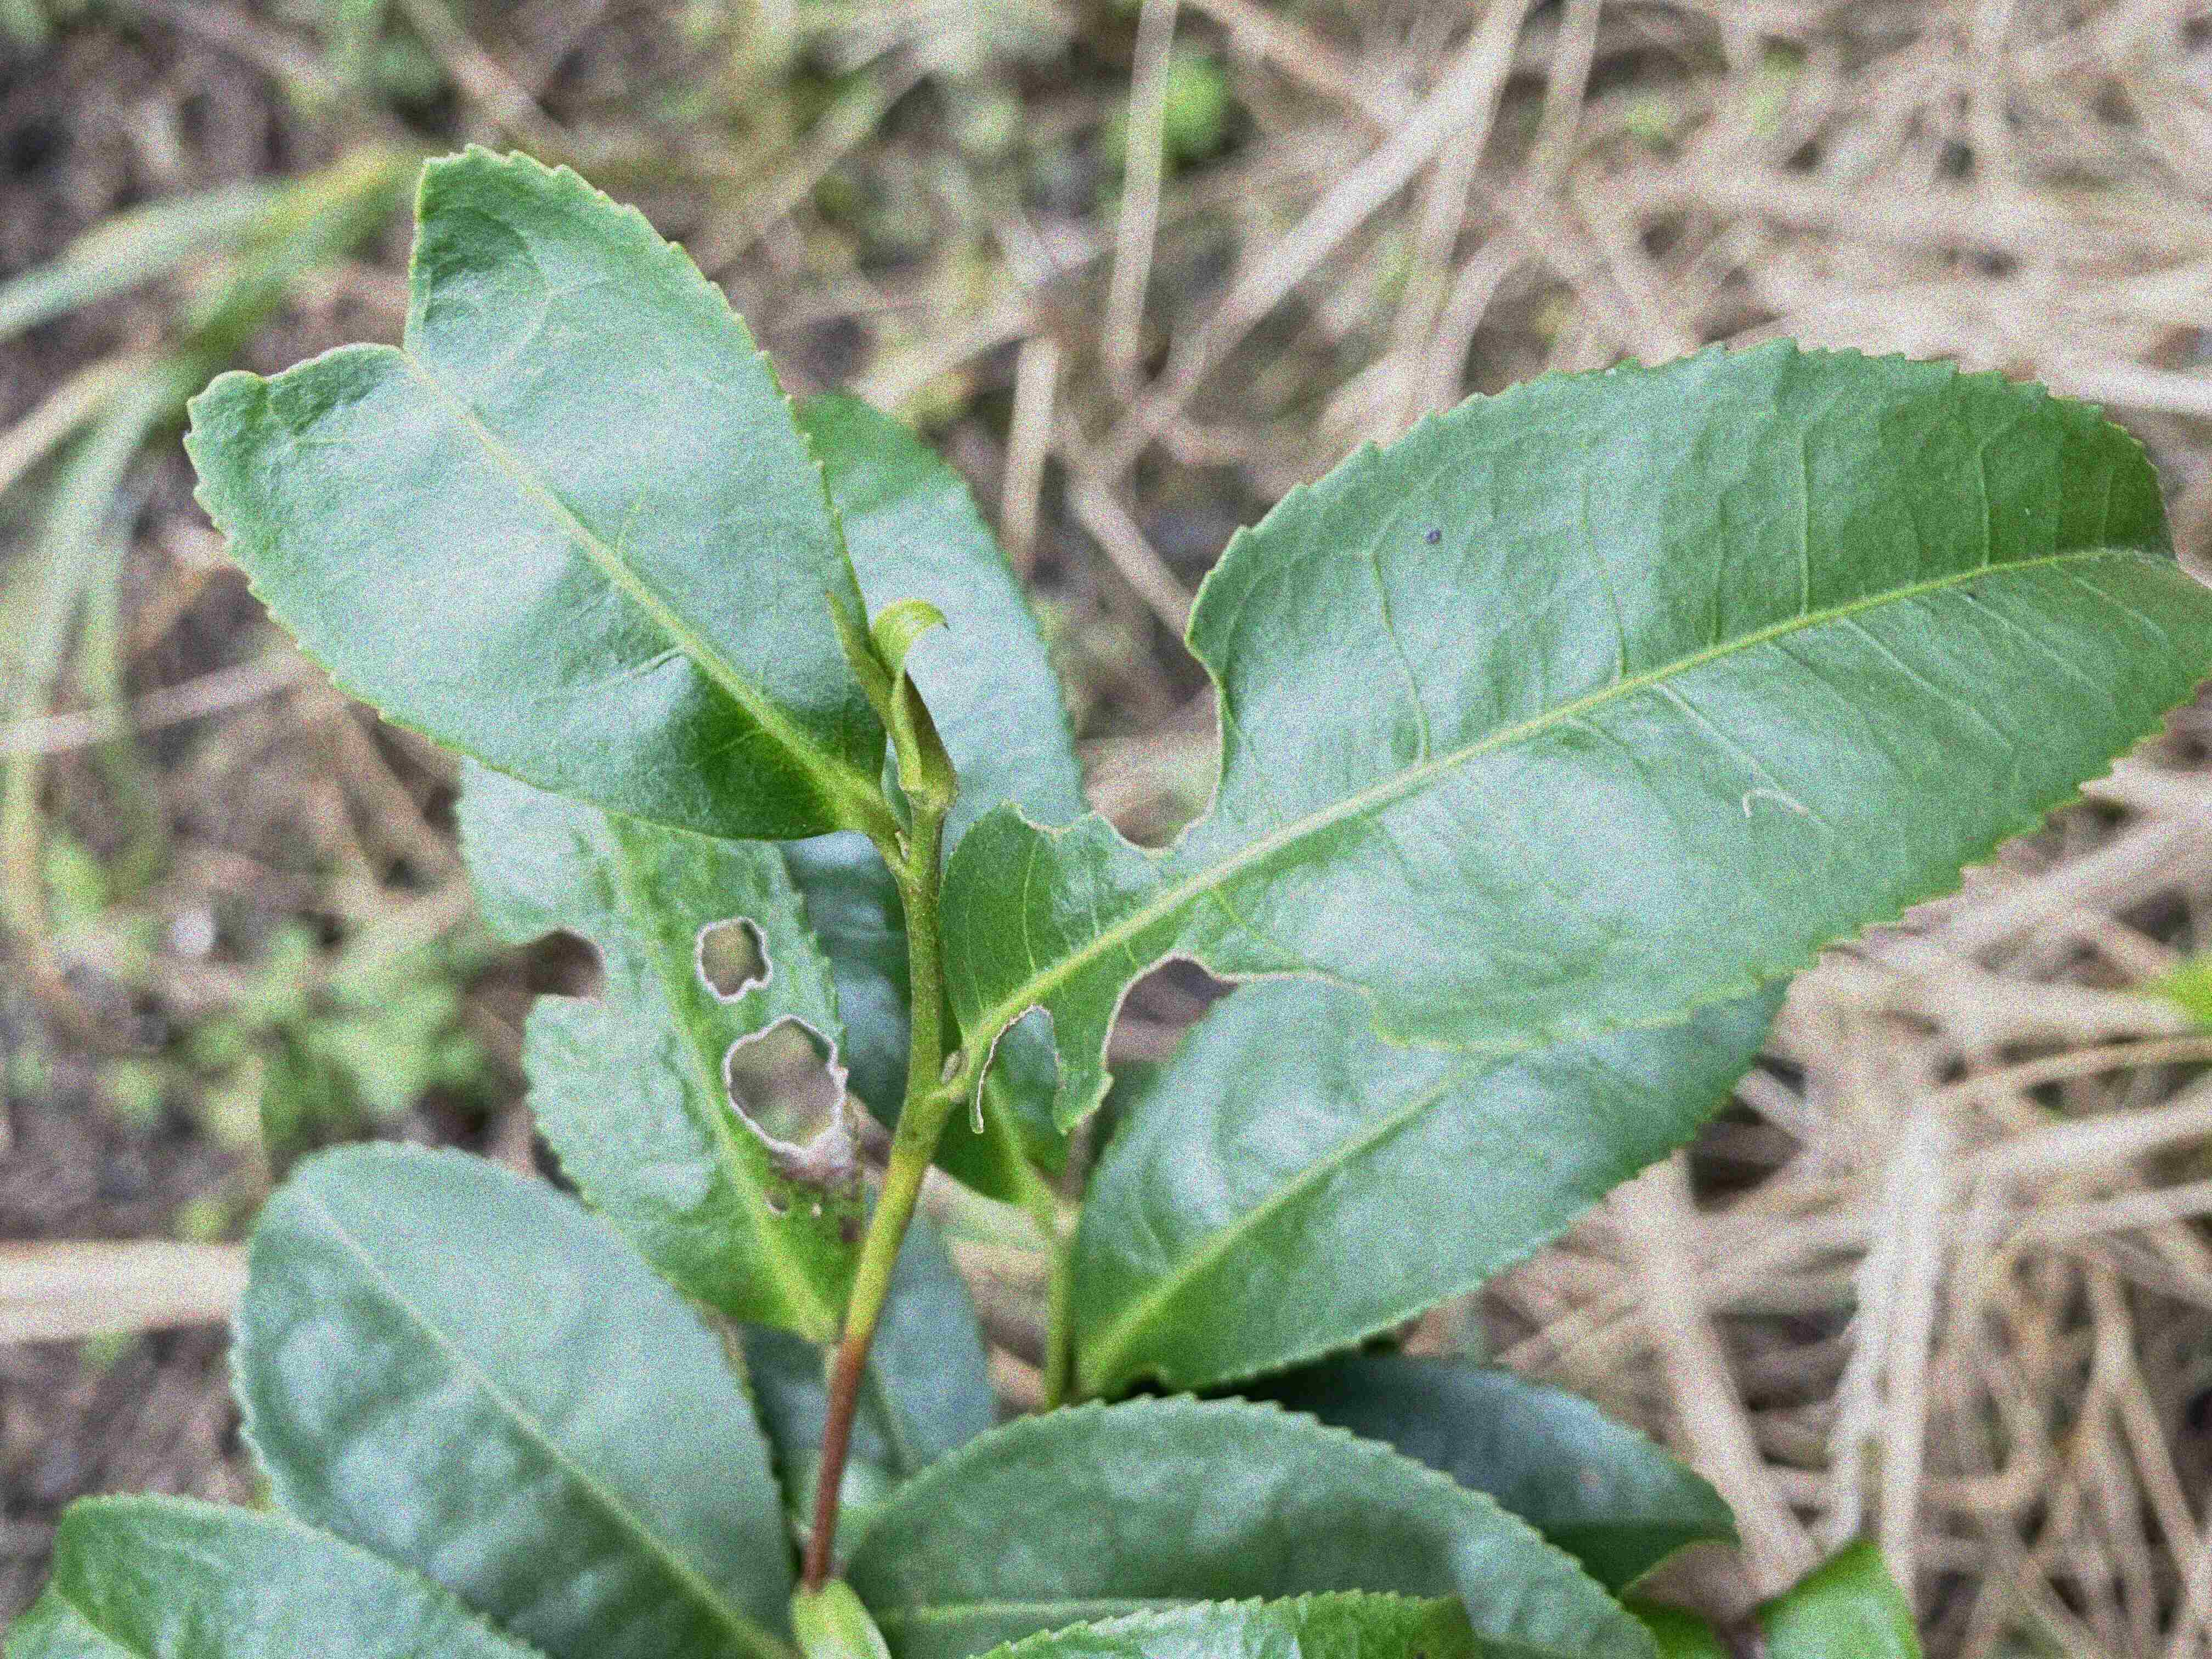chihuo_high: (932, 329, 2210, 1138), (178, 139, 899, 843), (455, 758, 862, 1344)
healthy: (228, 1140, 799, 1656)
